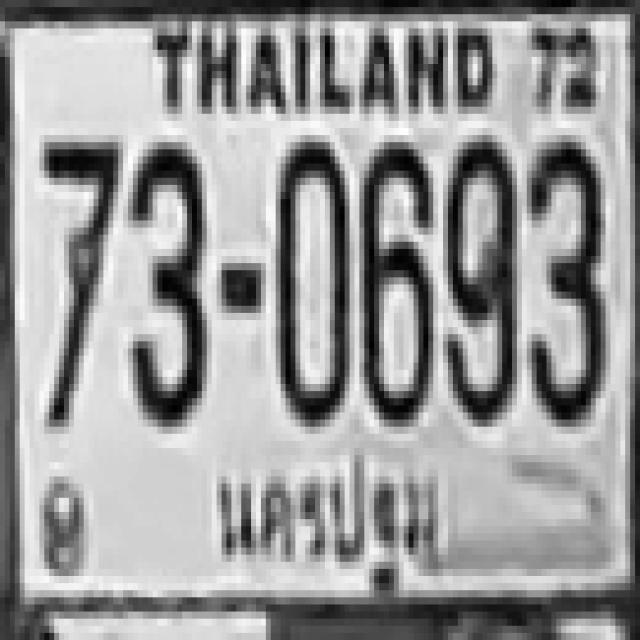0: (270, 135, 344, 420)
3: (123, 135, 202, 420), (526, 135, 600, 420)
6: (359, 135, 428, 420)
7: (40, 139, 119, 423), (40, 135, 119, 391), (40, 135, 119, 327)
9: (443, 135, 512, 420)
NakhonPathom: (210, 448, 449, 602)
